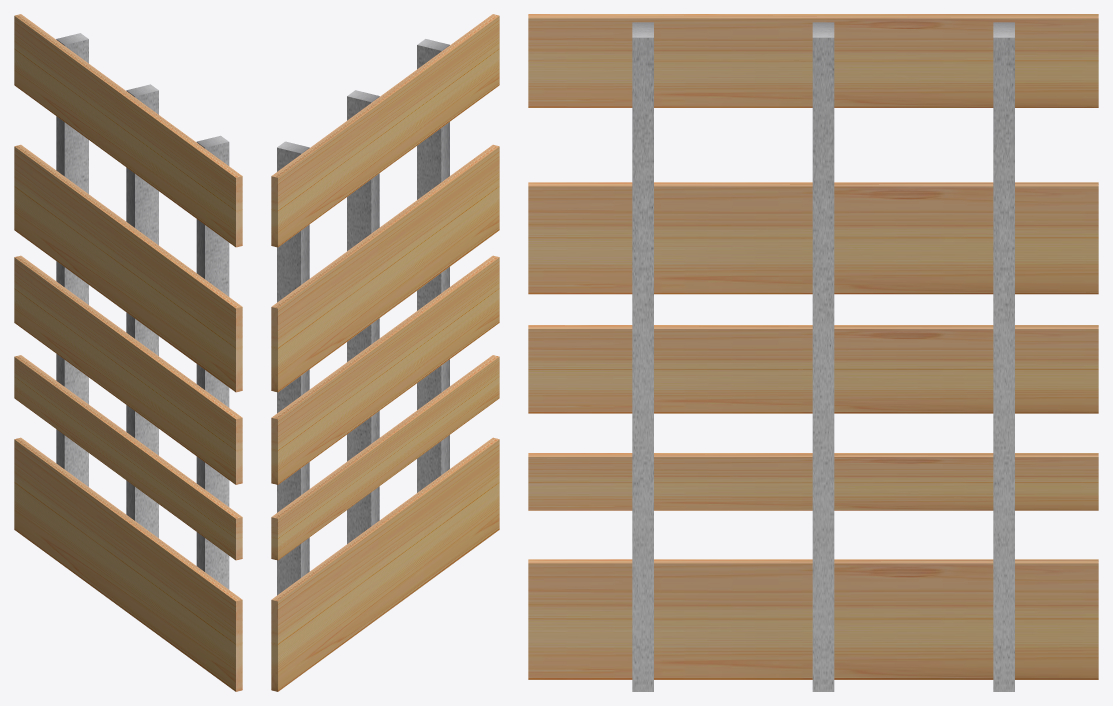
File: INIADWood.fbx
3 views of the same model, side by side, from view 1: azimuth 30°, elevation 25°; view 2: azimuth 150°, elevation 25°; view 3: azimuth 270°, elevation 25° (orthographic). The views are drawn at different scales.
Parts seen in each view (by area): view 1: Cube.007, Cube.004, Cube.002, Cube.005, Cube.006, Cube, Cube.003, Cube.001; view 2: Cube.007, Cube.004, Cube.002, Cube.005, Cube.006, Cube, Cube.001, Cube.003; view 3: Cube.007, Cube.004, Cube.002, Cube.005, Cube.006, Cube.001, Cube, Cube.003.
Part boxes in pixels (<box>): Cube.007: <box>14,437,242,691</box>; Cube.004: <box>14,144,242,392</box>; Cube.002: <box>14,14,242,247</box>; Cube.005: <box>14,255,242,484</box>; Cube.006: <box>14,355,242,560</box>; Cube: <box>196,135,229,589</box>; Cube.003: <box>56,33,88,486</box>; Cube.001: <box>126,84,158,538</box>; Cube.007: <box>271,437,499,691</box>; Cube.004: <box>271,144,499,392</box>; Cube.002: <box>271,14,499,247</box>; Cube.005: <box>271,255,499,484</box>; Cube.006: <box>271,355,499,560</box>; Cube: <box>417,39,449,492</box>; Cube.001: <box>347,90,379,543</box>; Cube.003: <box>277,141,309,595</box>; Cube.007: <box>528,559,1098,679</box>; Cube.004: <box>528,182,1098,294</box>; Cube.002: <box>528,14,1098,107</box>; Cube.005: <box>528,325,1098,413</box>; Cube.006: <box>528,453,1098,510</box>; Cube.001: <box>812,22,834,691</box>; Cube: <box>632,22,653,691</box>; Cube.003: <box>993,22,1014,691</box>.
Bounding box in the file's own units: 1580 × 2022 × 139.
